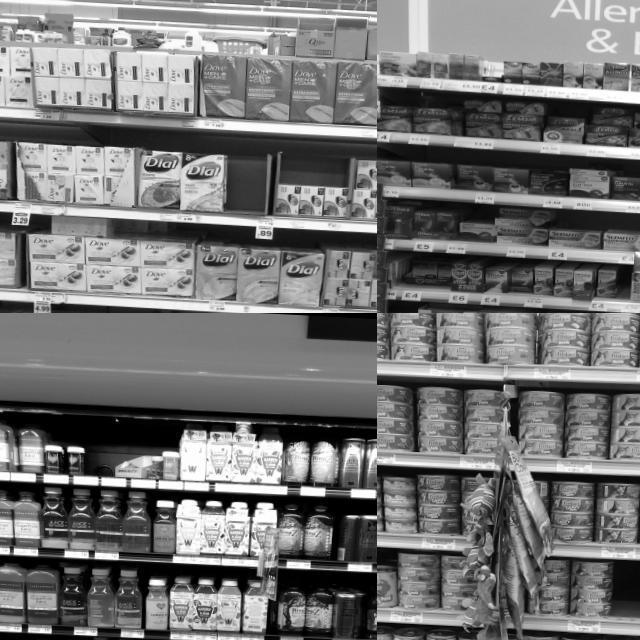empty: (226, 158, 266, 228), (614, 560, 640, 635), (85, 438, 110, 486)
